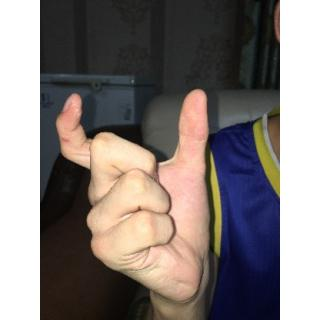NOON: (53, 84, 218, 310)
